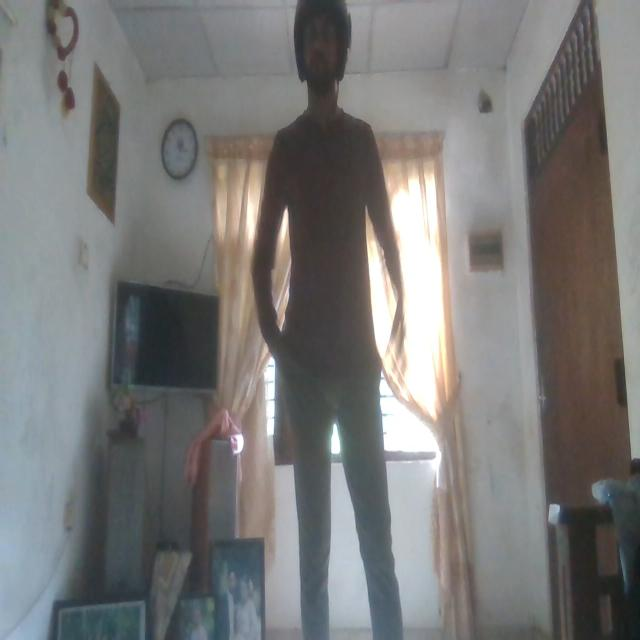Helmet_Wearer: (290, 0, 356, 115)
Person: (255, 1, 413, 640)
